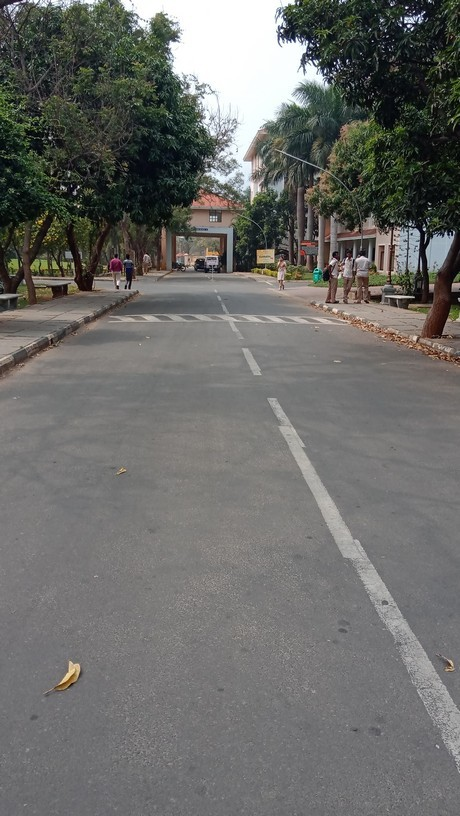bump: (85, 313, 351, 325)
